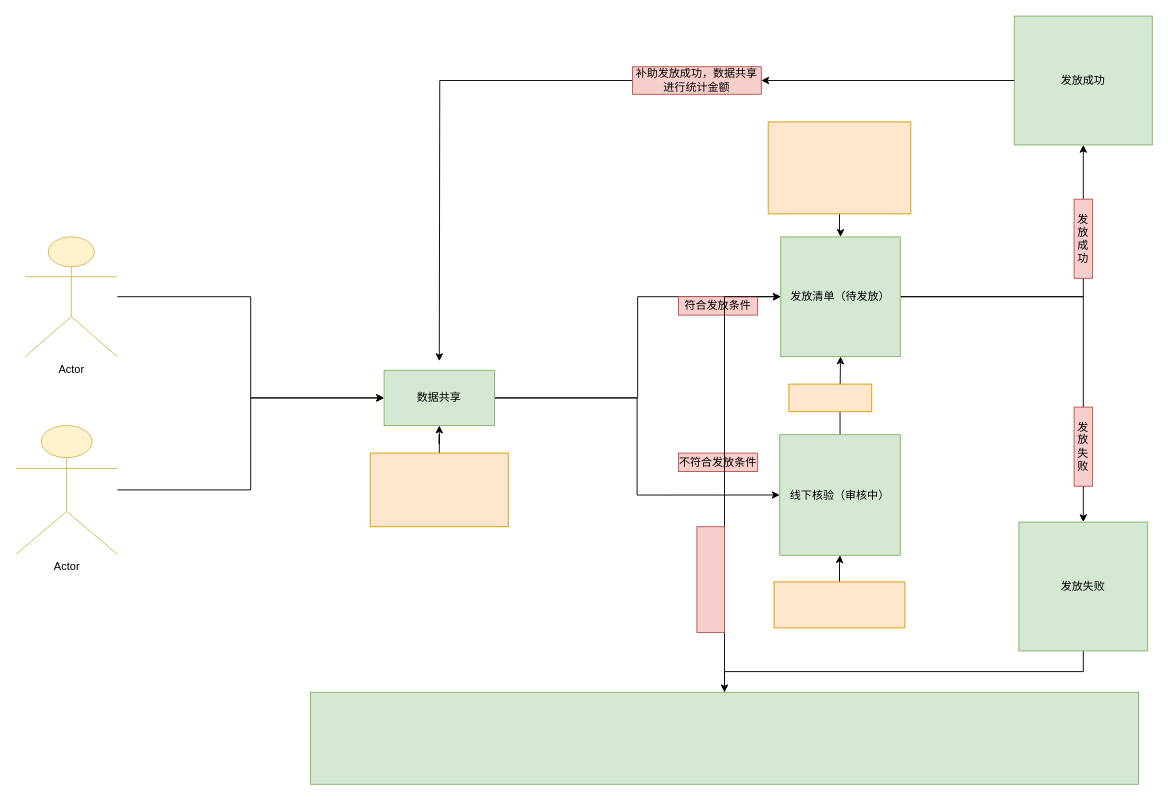
Image size: 1168x800. Some labels were removed from this diagram. The shapes that lost their labels are listed below. From the top down, each one's centre as x and y in pixels, then its label:
At point 839,167: "正常发放-发放成功 一次性发放-发放成功 正常发放-发放失败 一次性发放-发放失败".
At point 830,397: "5、审核通过".
At point 438,489: "是否符合发放条件 符合（待发放） 不符合（审核中）".
At point 710,579: "待发放".
At point 839,604: "6. 审批驳回".
At point 724,737: "用户进行补助信息修改（1：发放状态改为待发放。2：将此条记录的创建时间改为下个月）".
